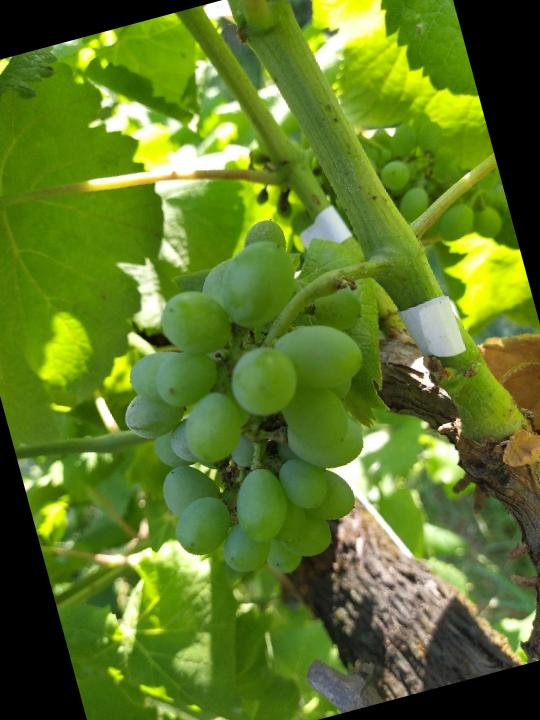grape: (80, 199, 427, 612)
